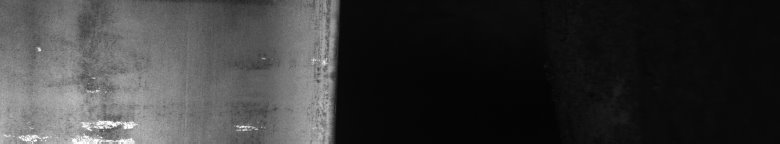hc: (26, 44, 137, 136)
